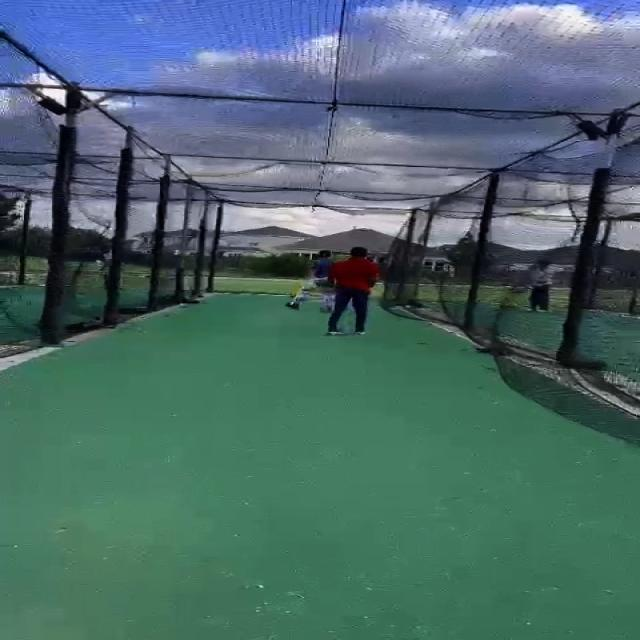batsman: (284, 249, 334, 314)
